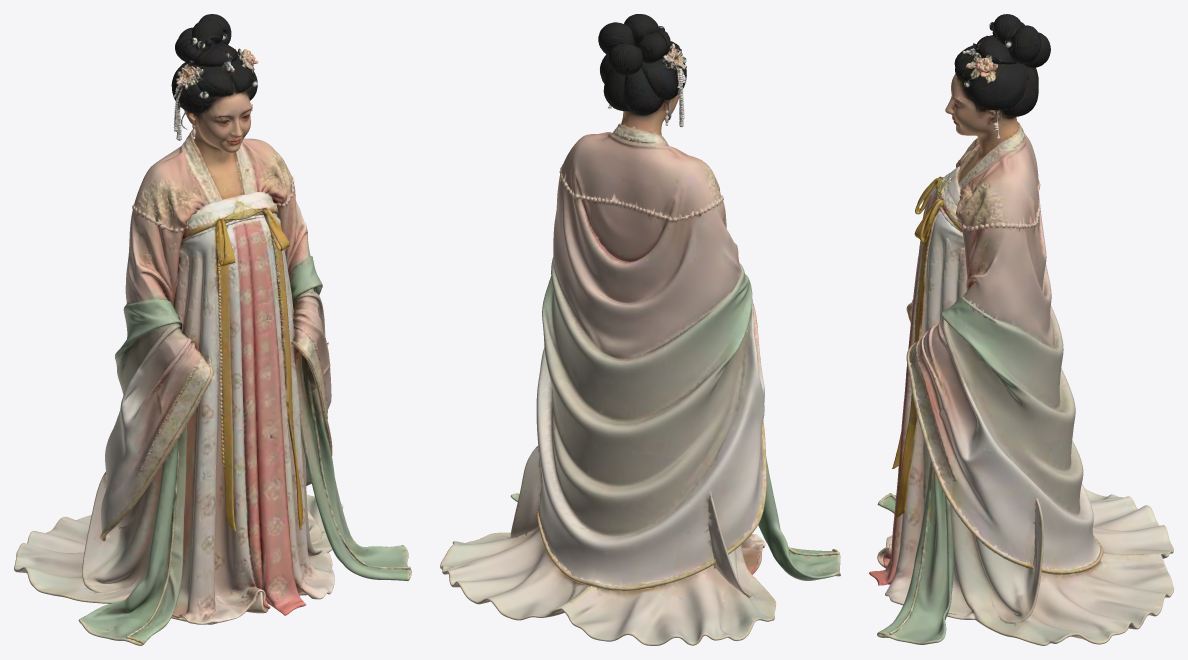
File: TangDaiMeiRen.glb
3 renders of one model, left to right at view 1: azimuth 30°, elevation 25°; view 2: azimuth 150°, elevation 25°; view 3: azimuth 270°, elevation 25°, orthographic.
Parts seen in each view (by area): view 1: tripo_node_0825cb96-ceea-4574-a0f2-4996558942a4; view 2: tripo_node_0825cb96-ceea-4574-a0f2-4996558942a4; view 3: tripo_node_0825cb96-ceea-4574-a0f2-4996558942a4.
Part boxes in pixels (x1,y1,x2,y2): tripo_node_0825cb96-ceea-4574-a0f2-4996558942a4: (14, 14, 411, 645); tripo_node_0825cb96-ceea-4574-a0f2-4996558942a4: (440, 14, 840, 645); tripo_node_0825cb96-ceea-4574-a0f2-4996558942a4: (869, 14, 1173, 645).
Bounding box in the file's own units: 0.6024 × 0.9785 × 0.4862.
Materials: 1 (1 with a texture image).
